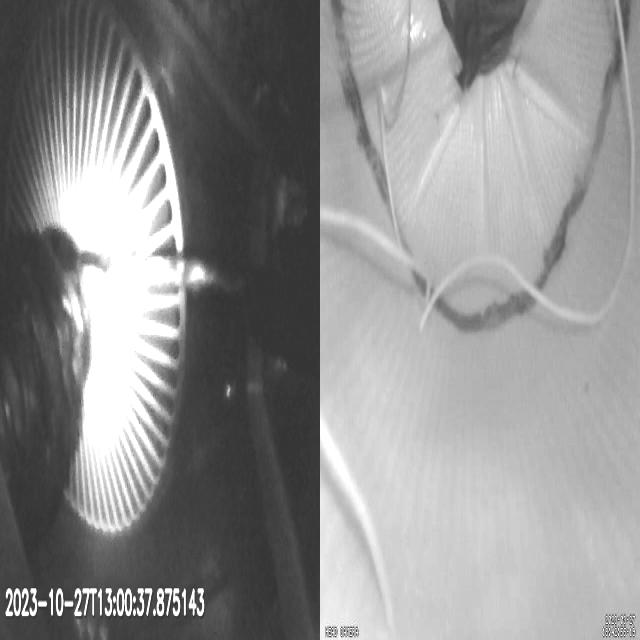red-circle: (328, 1, 631, 334)
